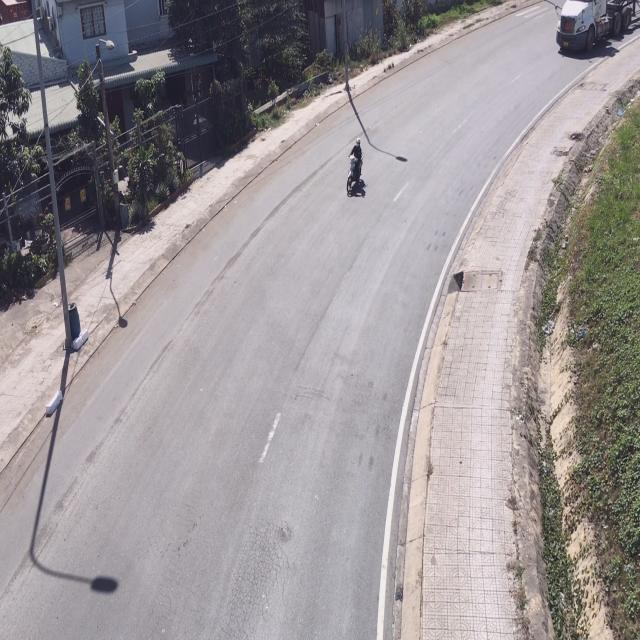motorbike: (345, 140, 367, 200)
truck: (554, 0, 636, 55)
